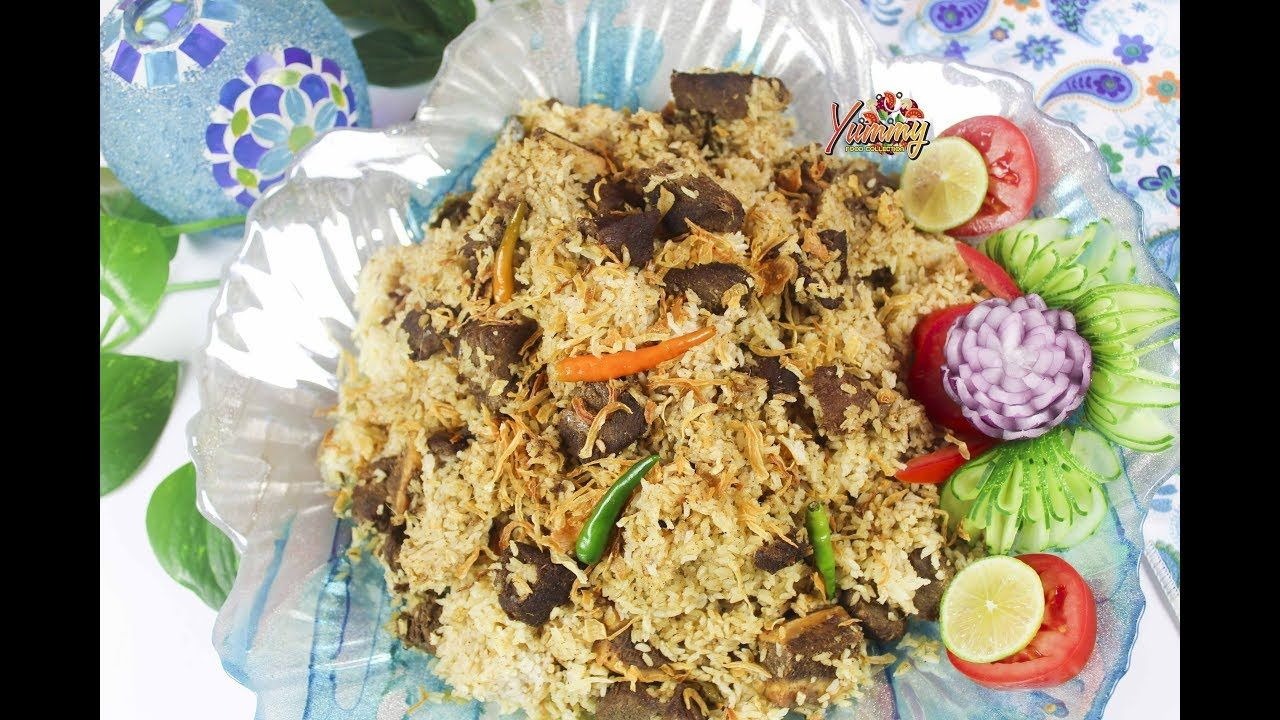tehari: (325, 138, 990, 707)
